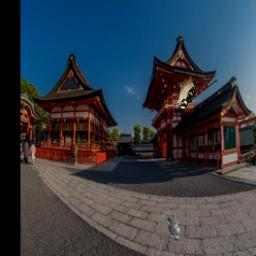Cuckoo: (163, 215, 181, 241)
Woodpecker: (173, 77, 198, 111)
